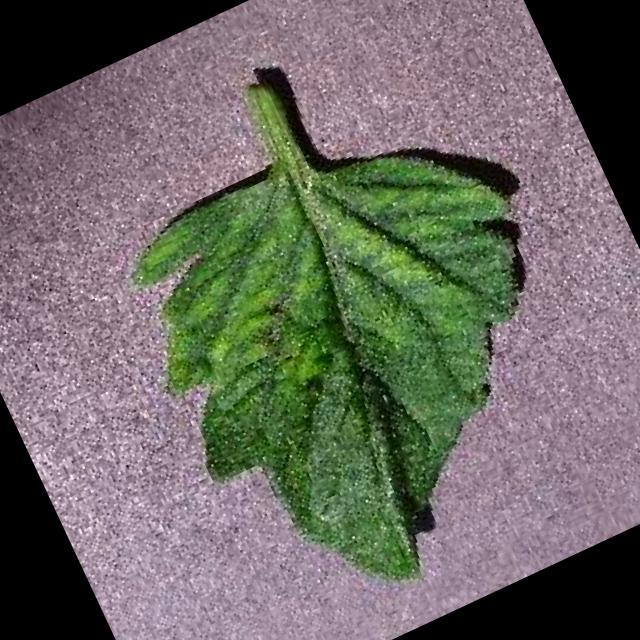Tomato mosaic virus leaf: (100, 78, 639, 640)
